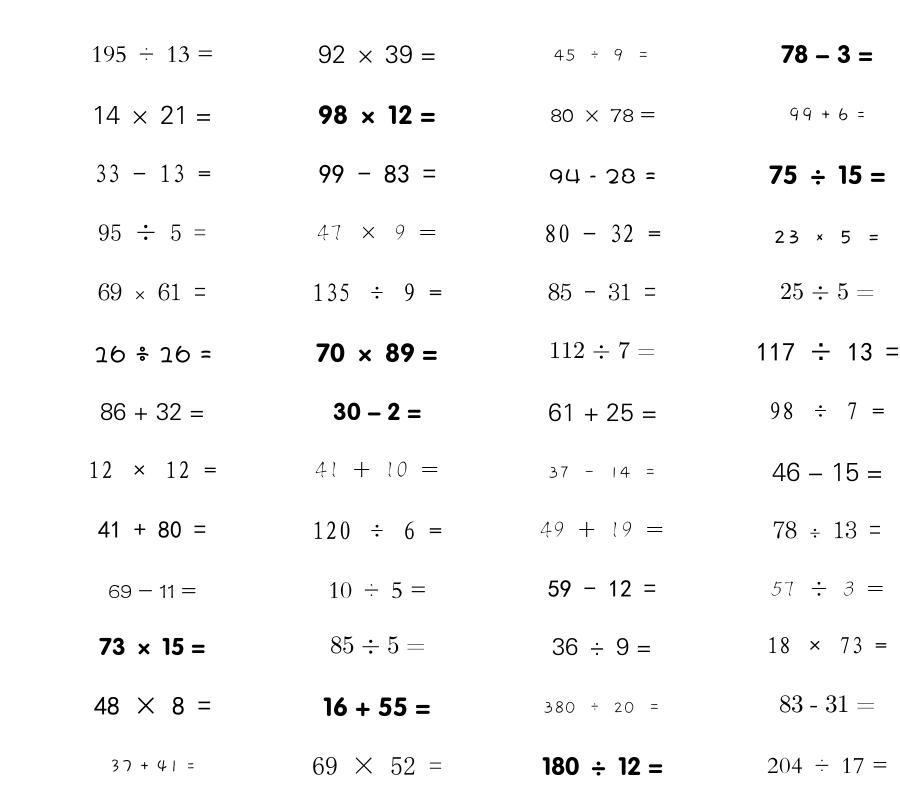MQ: (756, 342, 899, 361), (312, 283, 442, 302), (312, 521, 442, 540), (316, 343, 438, 363), (542, 756, 663, 776), (318, 105, 436, 125), (769, 165, 886, 185), (312, 757, 442, 775), (88, 461, 217, 479), (92, 105, 212, 124), (318, 45, 436, 64), (94, 164, 211, 183), (319, 164, 436, 183), (544, 224, 661, 243), (94, 696, 211, 715), (772, 462, 883, 482), (767, 636, 887, 654), (323, 697, 431, 717), (93, 345, 212, 363), (315, 461, 439, 478), (540, 521, 664, 538), (91, 46, 214, 63), (769, 402, 885, 420), (548, 403, 657, 422), (767, 757, 888, 774), (317, 224, 437, 241), (99, 637, 205, 656), (100, 402, 205, 421), (98, 283, 206, 301), (548, 283, 656, 301), (98, 521, 206, 539), (773, 521, 881, 539), (549, 341, 656, 359), (552, 637, 652, 656), (781, 44, 873, 64), (98, 224, 206, 241), (548, 580, 656, 597), (771, 581, 884, 597), (779, 695, 875, 713), (549, 168, 656, 184), (780, 282, 875, 300), (330, 636, 425, 654), (328, 582, 427, 599), (333, 402, 421, 421), (543, 701, 661, 714), (773, 230, 881, 244), (550, 108, 655, 122), (548, 466, 657, 479), (554, 48, 650, 62), (108, 584, 196, 598), (109, 759, 196, 773), (788, 107, 866, 122)
